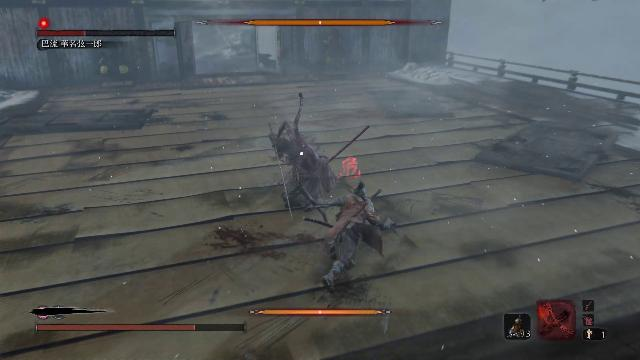sk: (311, 180, 396, 292)
